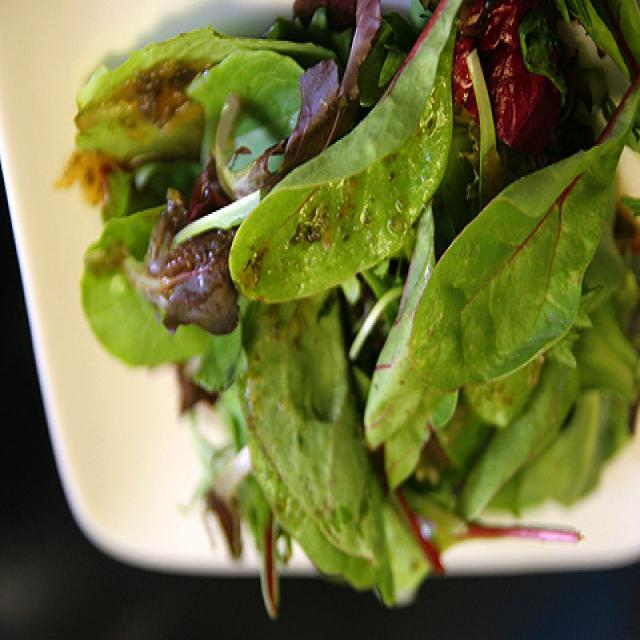Green Salad: (96, 18, 636, 580)
